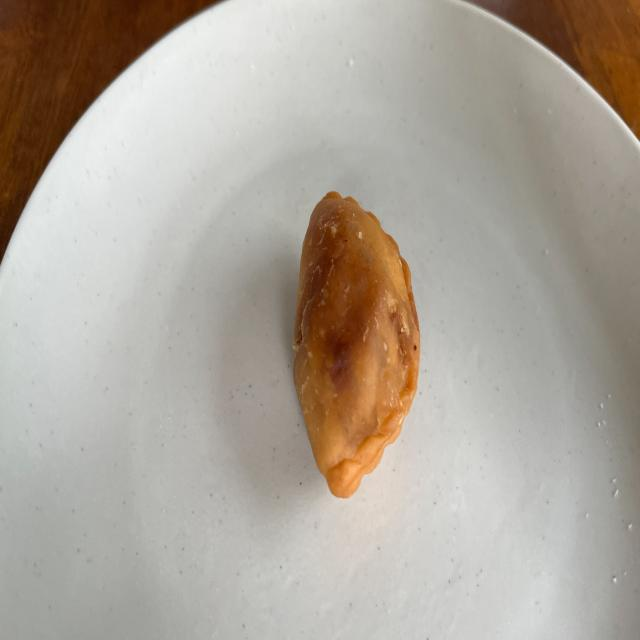karipap: (294, 191, 420, 498)
